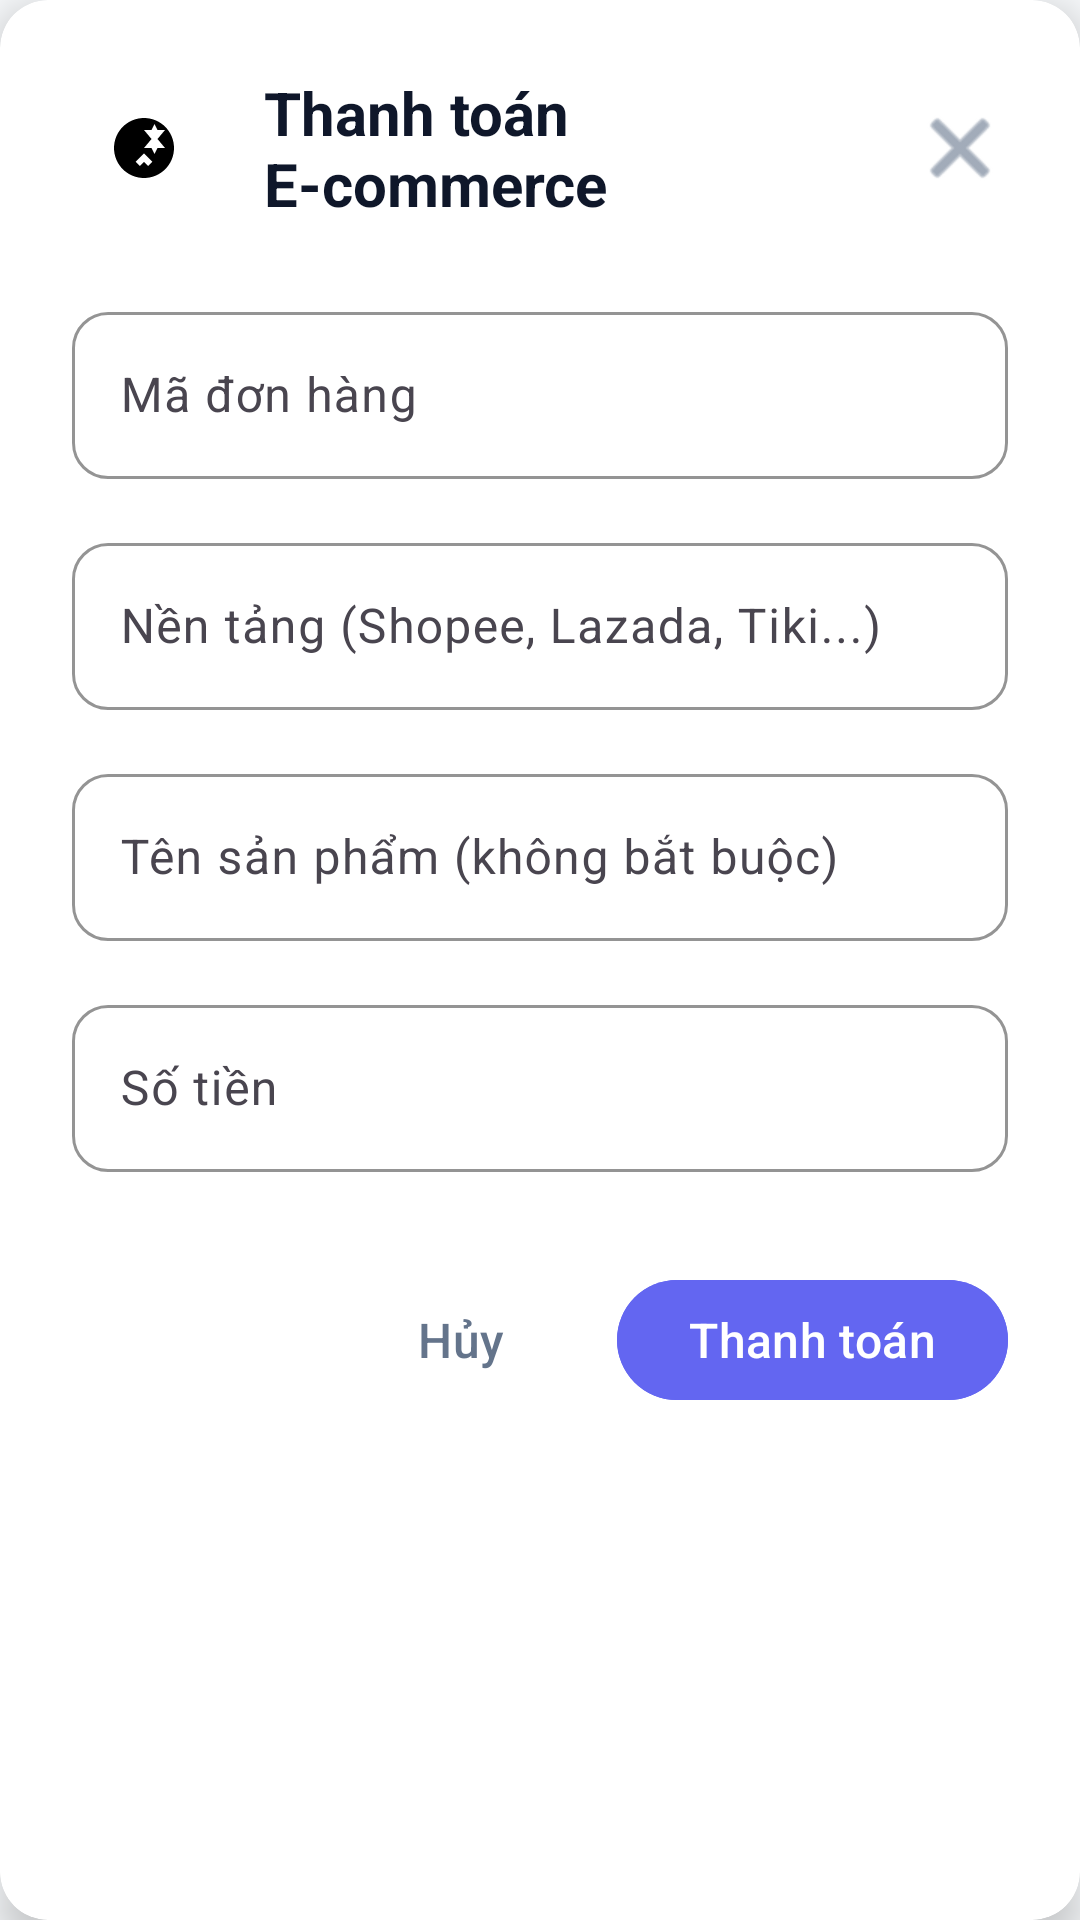

Icons on this 1080*1920 Android screen, each with its box as (x1, y1, x2, y2):
Đóng: (930, 118, 990, 178)
